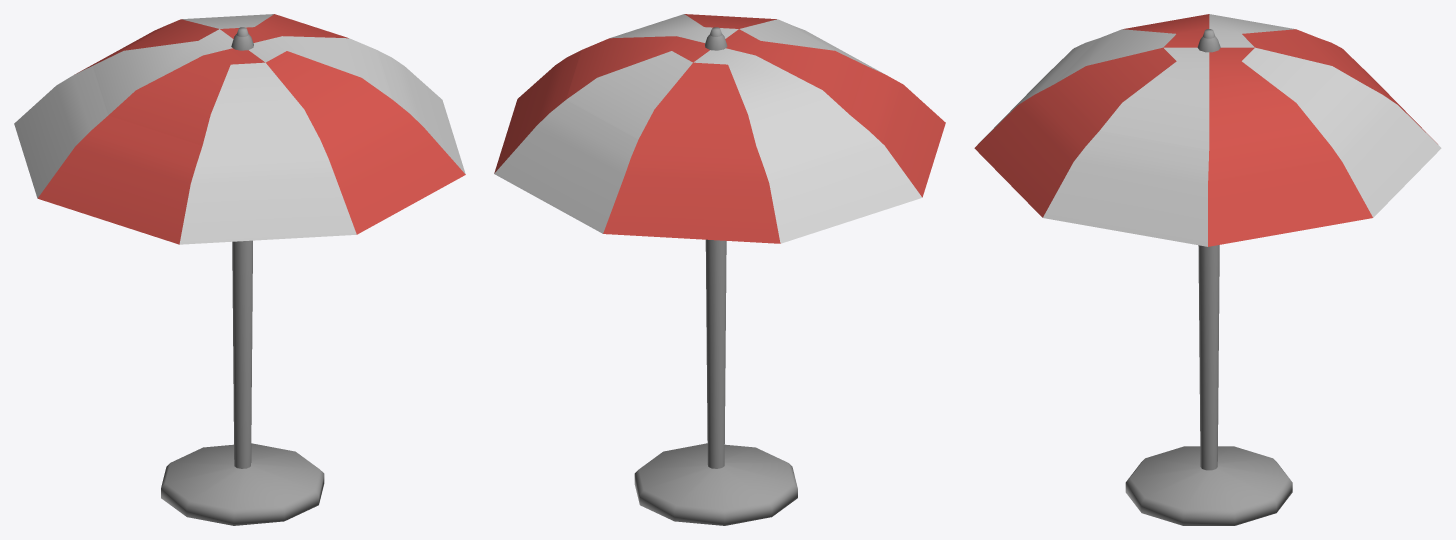
The model's file is parasol.fbx.
The picture shows the model from 3 angles, left to right: view 1: azimuth 30°, elevation 25°; view 2: azimuth 150°, elevation 25°; view 3: azimuth 270°, elevation 25°; orthographic projection.
Visible parts, largest first — view 1: Parasol; view 2: Parasol; view 3: Parasol.
Part boxes in pixels (x1,y1,x2,y2): Parasol: [14, 14, 465, 525]; Parasol: [494, 14, 945, 525]; Parasol: [974, 14, 1441, 525].
Size of the model in its own units: 1.84 by 2 by 1.84.
